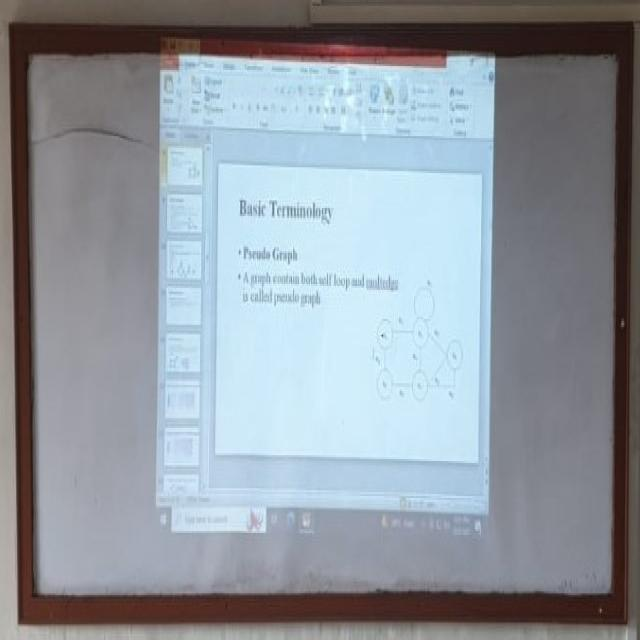Slide: (154, 29, 494, 547)
White-board: (18, 31, 628, 618)
